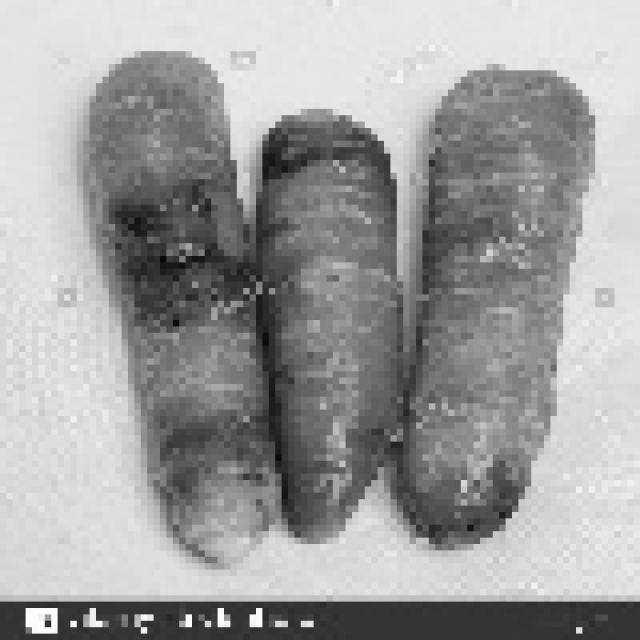Stale_Carrot: (94, 49, 290, 551), (411, 83, 590, 555), (275, 121, 420, 533)
